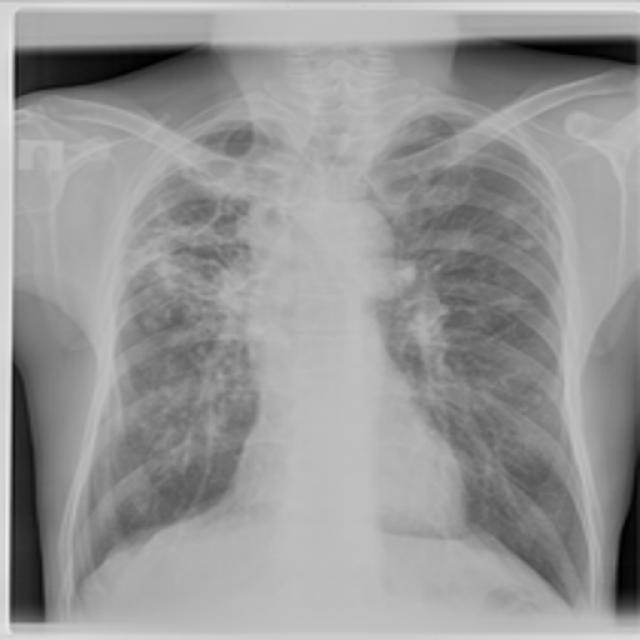tuberculosis: (2, 1, 640, 640)
